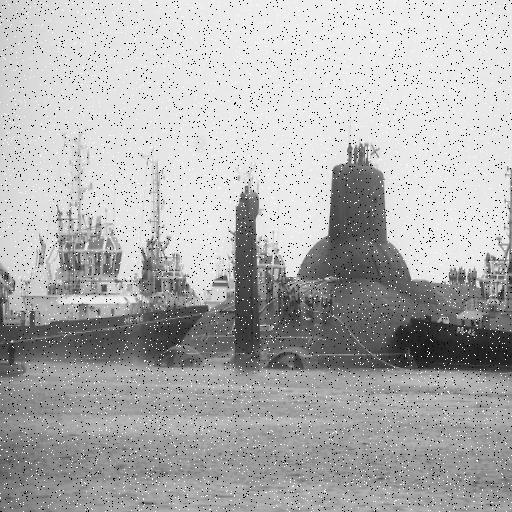submarine: (163, 161, 493, 365)
